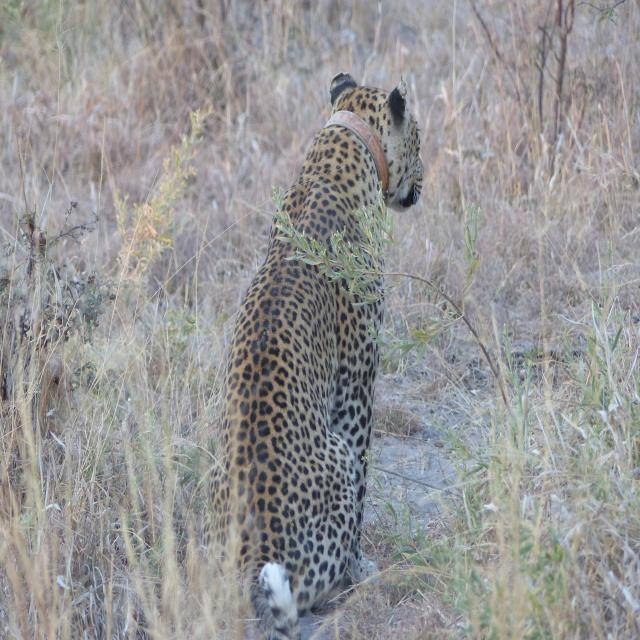Leopard: (205, 68, 412, 640)
